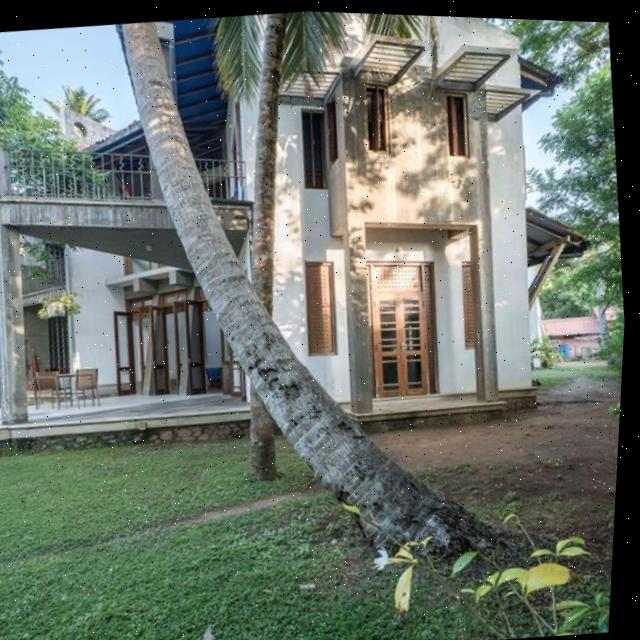building: (0, 0, 611, 465)
